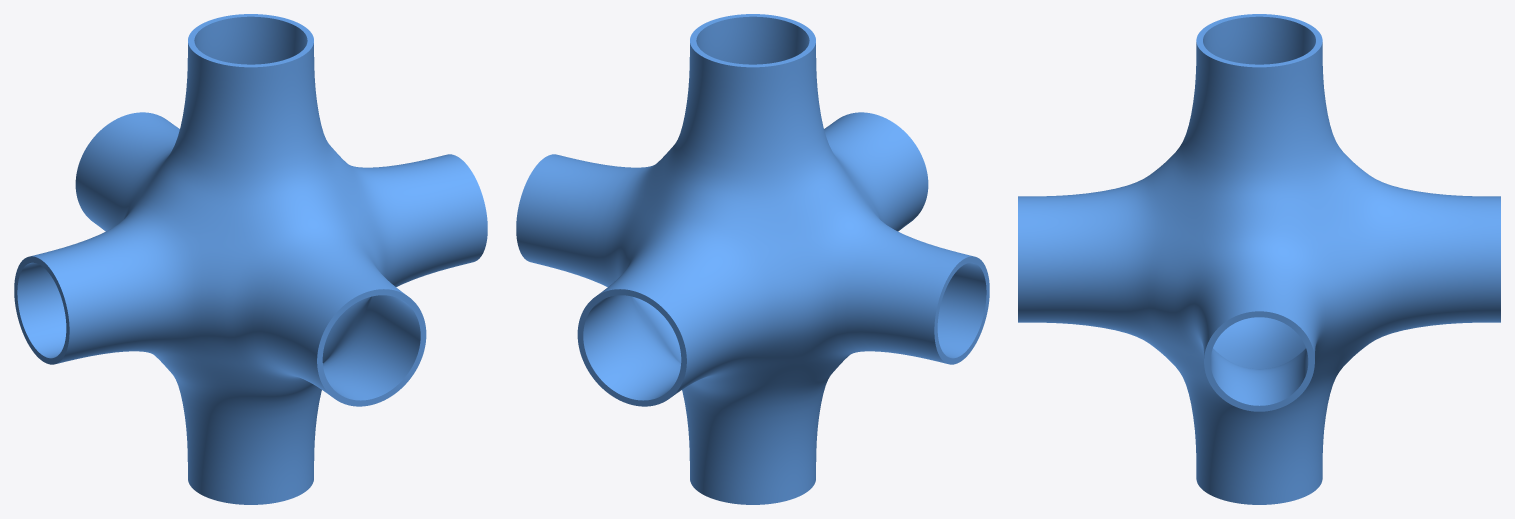
File: pipe.glb
The picture shows the model from 3 angles, left to right: view 1: azimuth 30°, elevation 25°; view 2: azimuth 150°, elevation 25°; view 3: azimuth 270°, elevation 25°; orthographic projection.
Visible parts, largest first — view 1: 3D pipe; view 2: 3D pipe; view 3: 3D pipe.
Boxes of the visible parts, <box> form: 3D pipe: <box>14,14,487,504</box>; 3D pipe: <box>516,14,989,504</box>; 3D pipe: <box>1018,14,1500,504</box>.
Size of the model in its own units: 5.98 by 5.98 by 5.98.
